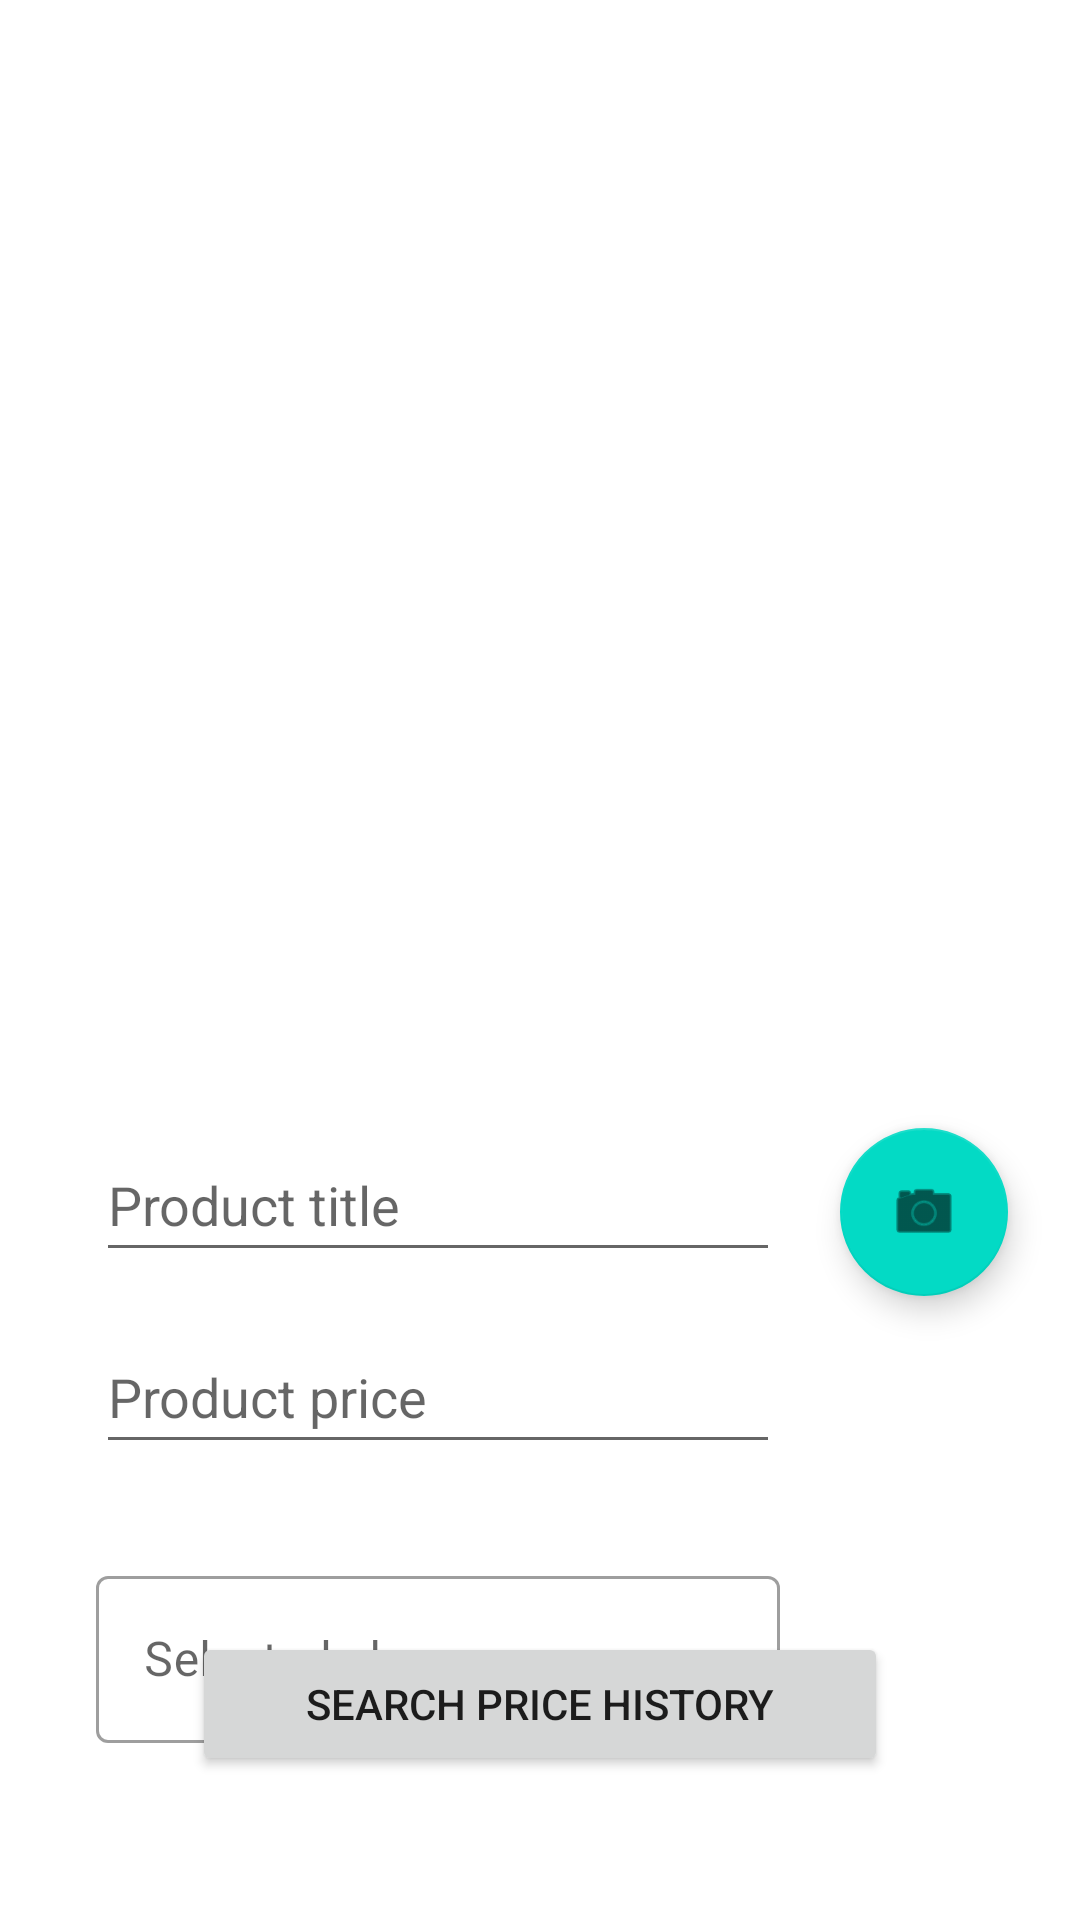

Where to tap for icons on this 1080w x 1920h app screen, as point (x, y):
Add picture of label: point (924, 1212)
